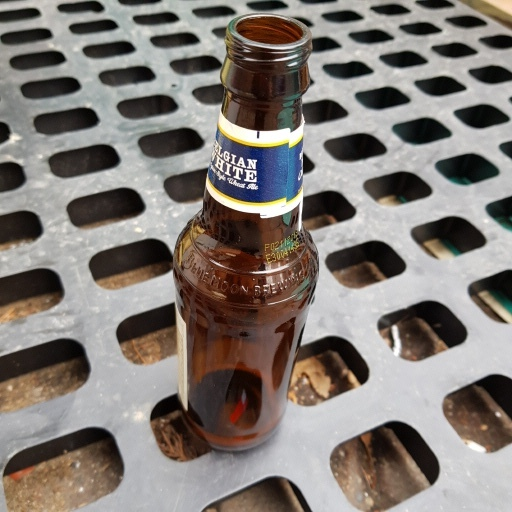Glass_1: (175, 16, 322, 452)
